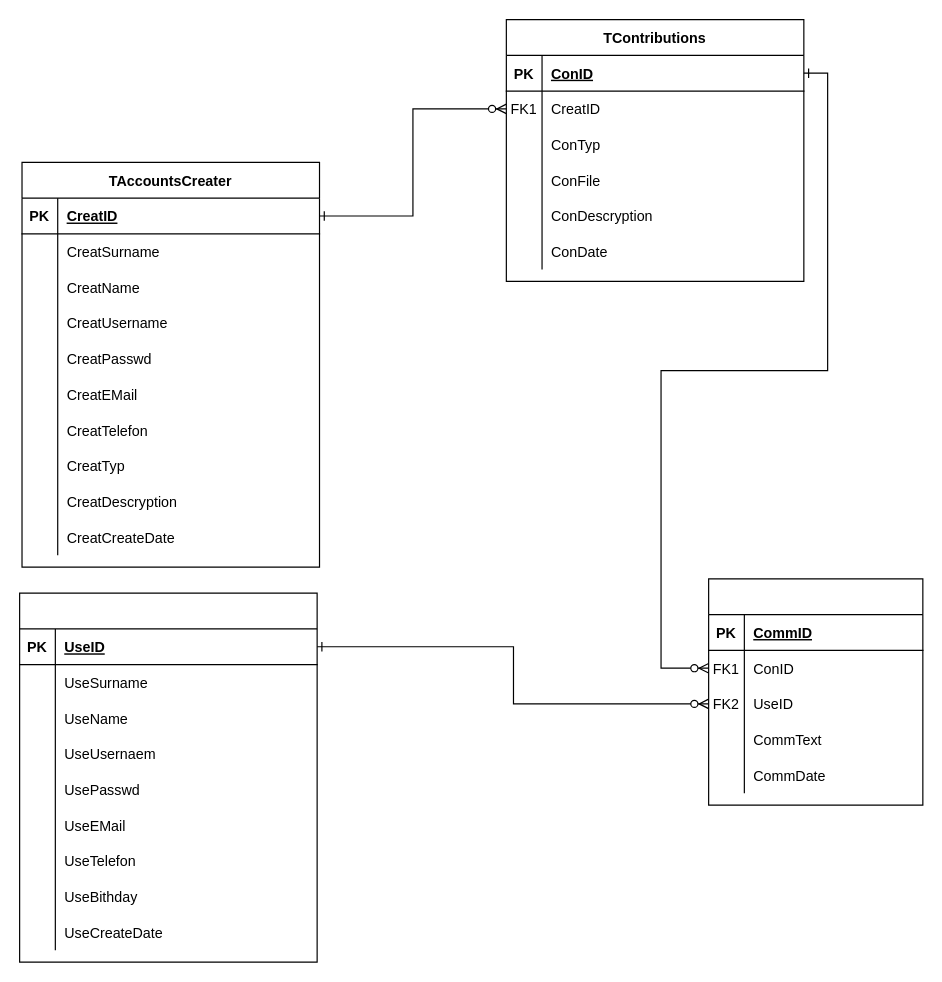
Some shapes in this 942 by 982 pixel diagram are drawn without their labels. The shapes that lost their labels are listed below. From the top down, each one's box as (x1, y1, x2, y2) in pixels, then its label:
(707, 578, 923, 805): TComments
(18, 592, 317, 962): TAccountsUser
